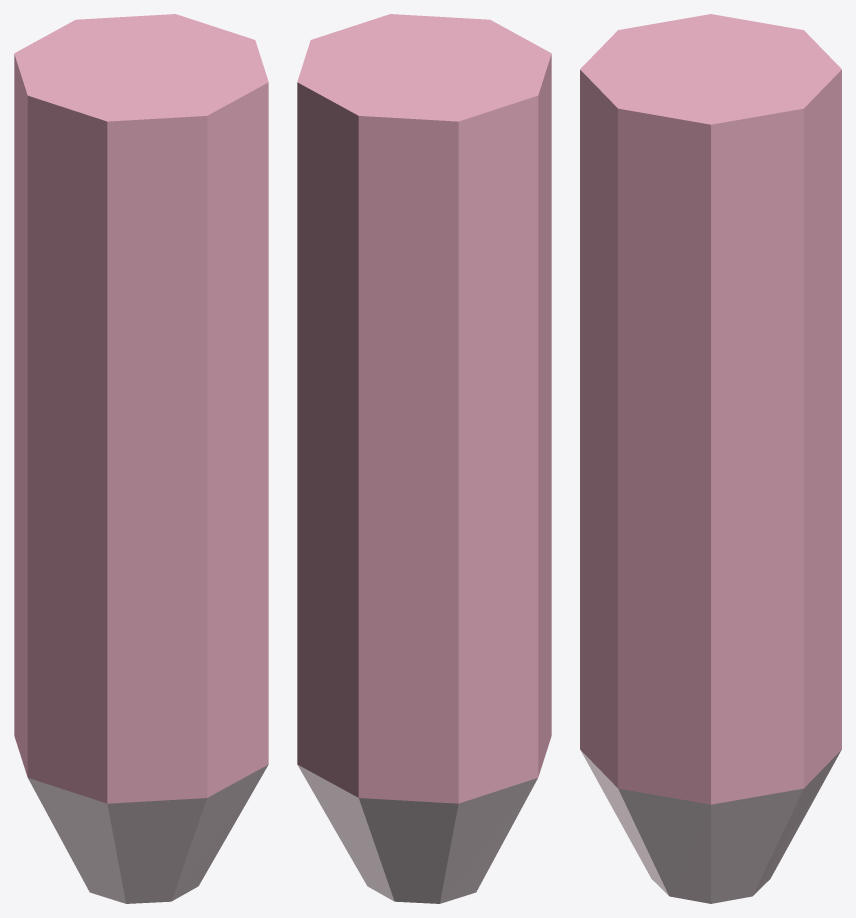
The model's file is tool_chalk.obj.
3 views of the same model, side by side, from view 1: azimuth 30°, elevation 25°; view 2: azimuth 150°, elevation 25°; view 3: azimuth 270°, elevation 25° (orthographic).
Visible parts, largest first — view 1: tool_chalk; view 2: tool_chalk; view 3: tool_chalk.
Part boxes in pixels (x1=…): tool_chalk: x1=14, y1=14, x2=268, y2=903; tool_chalk: x1=297, y1=14, x2=551, y2=903; tool_chalk: x1=580, y1=14, x2=841, y2=903.
Bounding box in the file's own units: 0.022 × 0.075 × 0.022.
